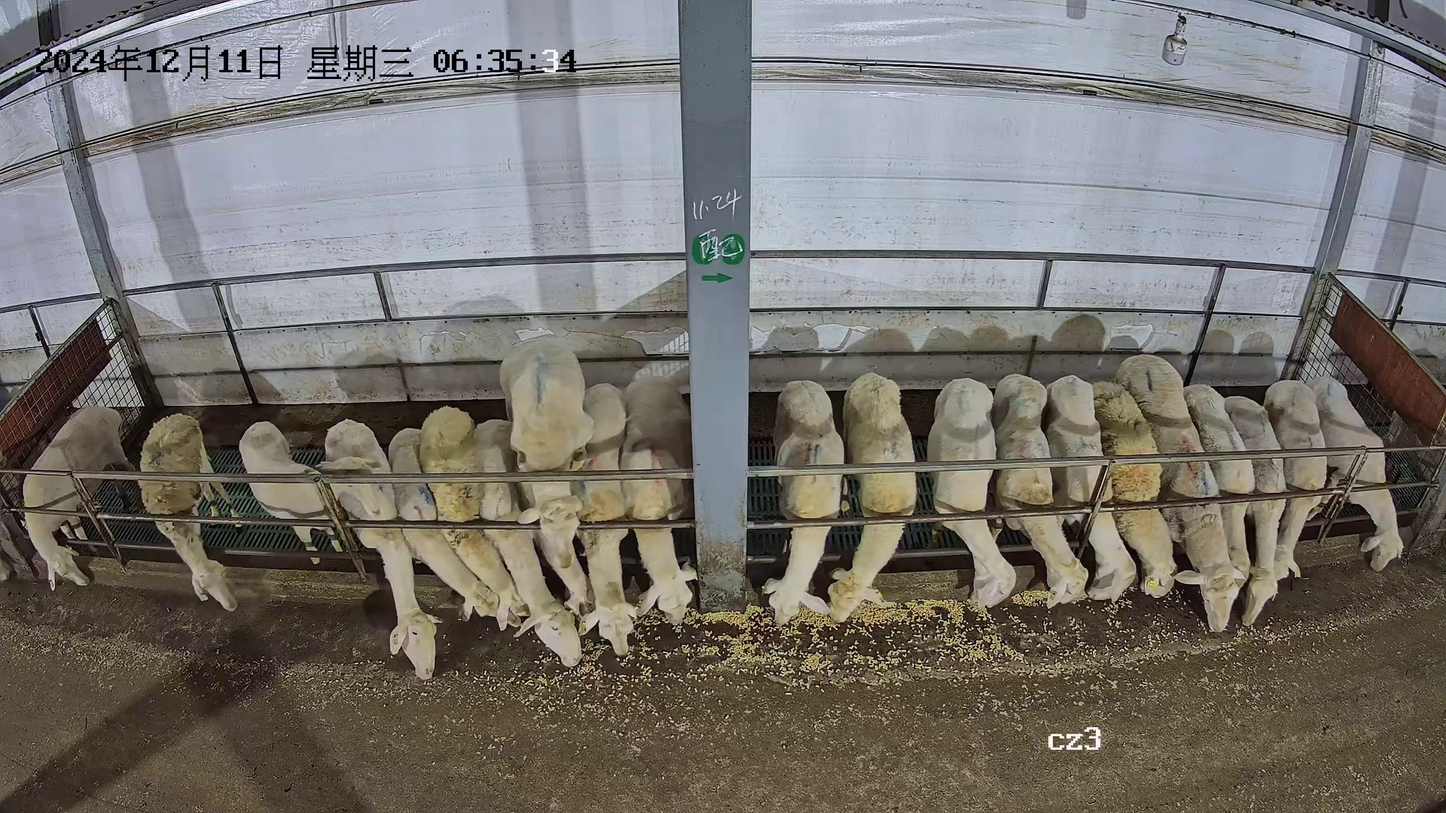Nmounting: (492, 334, 600, 635)
